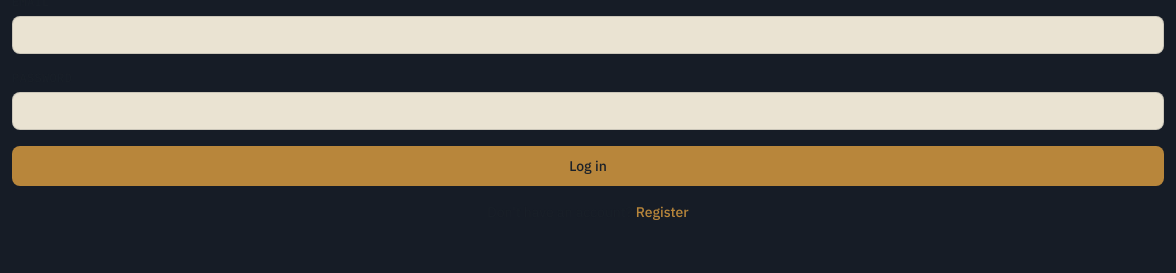
it: LoginForm › shows the server error message when login fails
Type "jane@example.com" into the field labelled "Email" at (588, 35), box [12,16,1164,54]
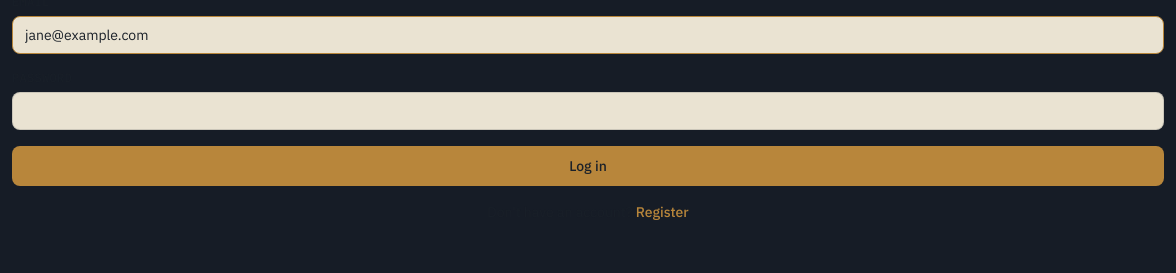
Type "wrong-password" into the password field labelled "Password" at (588, 111), box [12,92,1164,130]
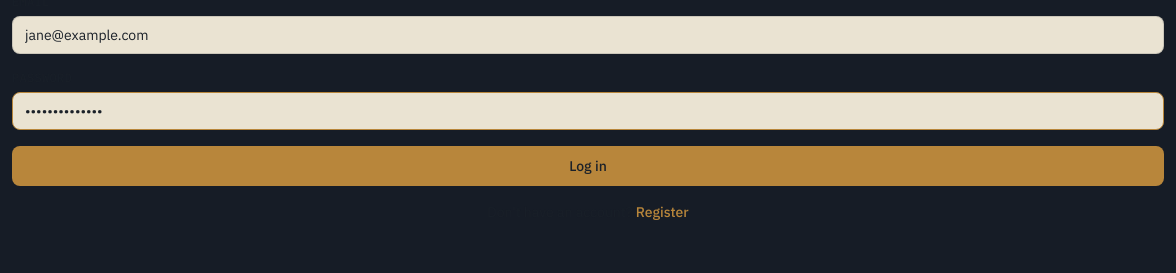
Click the button "Log in" at (588, 166), box [12,146,1164,186]
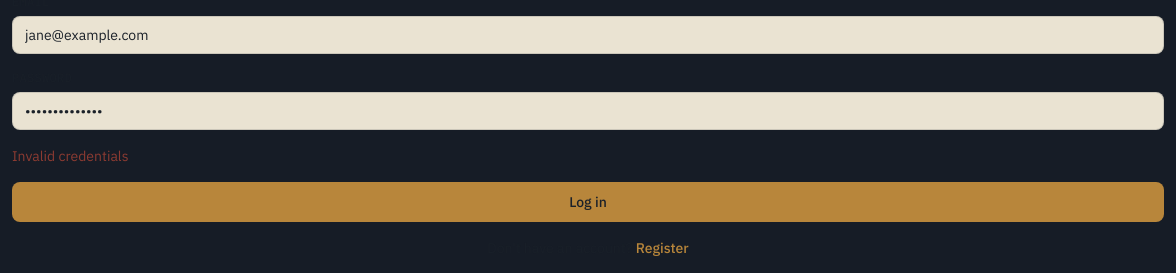
Now the text "Invalid credentials" is shown, box [12,147,128,165]
